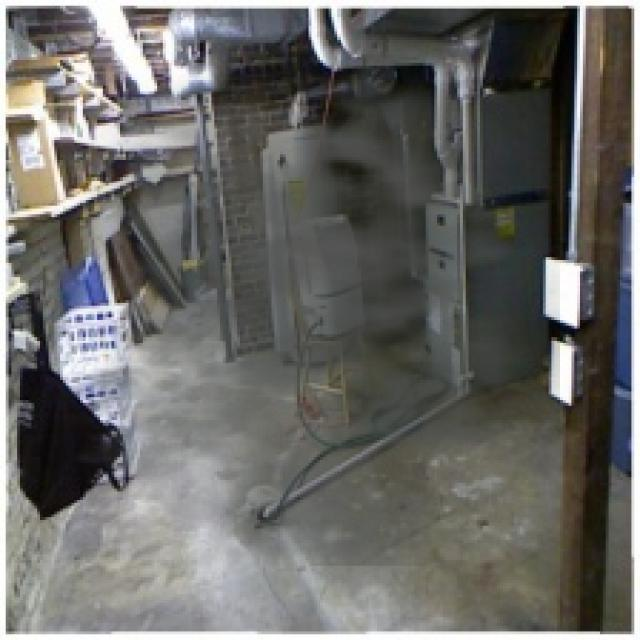Smoke: (26, 43, 560, 566)
